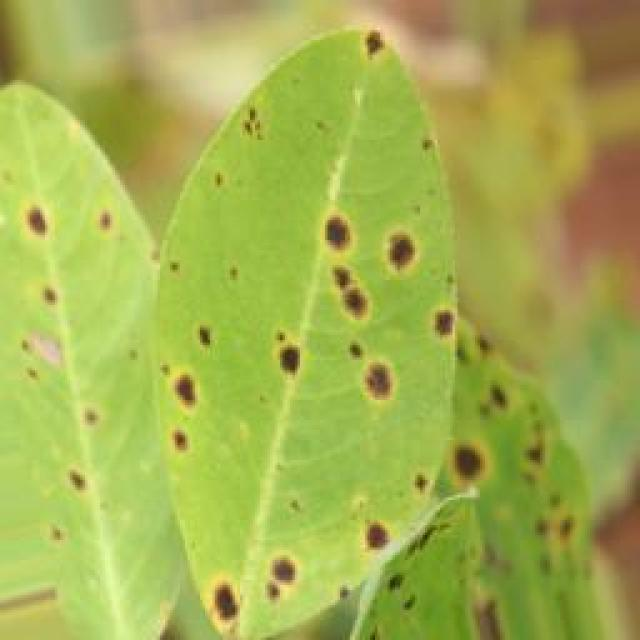Yellowish: (0, 0, 572, 640)
